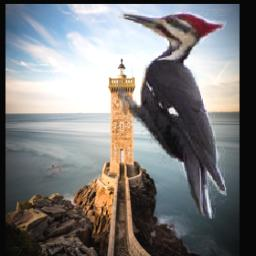Woodpecker: (119, 12, 228, 219)
